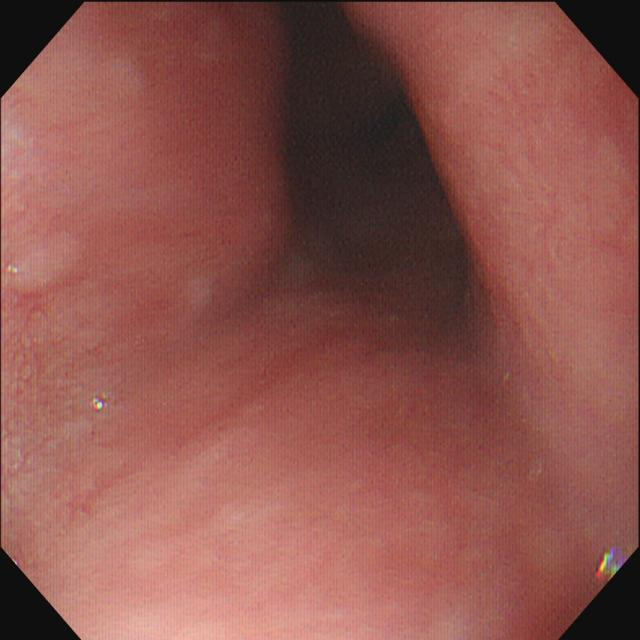E: (280, 3, 467, 299)
